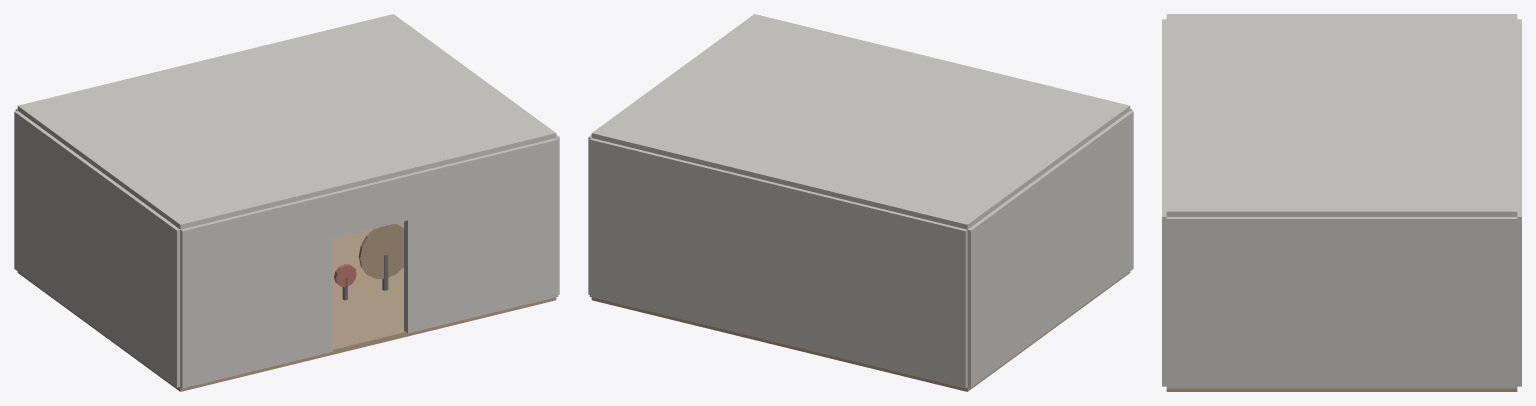
Rendered from cafe07_interior.glb.
The picture shows the model from 3 angles, left to right: view 1: azimuth 30°, elevation 25°; view 2: azimuth 150°, elevation 25°; view 3: azimuth 270°, elevation 25°; orthographic projection. The views are drawn at different scales.
Visible parts, largest first — view 1: geometry_0; view 2: geometry_0; view 3: geometry_0.
Part boxes in pixels (bbox=[...]): geometry_0: bbox=[14, 14, 559, 391]; geometry_0: bbox=[588, 14, 1133, 391]; geometry_0: bbox=[1162, 14, 1521, 391].
Bounding box in the file's own units: 8.15 × 3.4 × 6.15.
